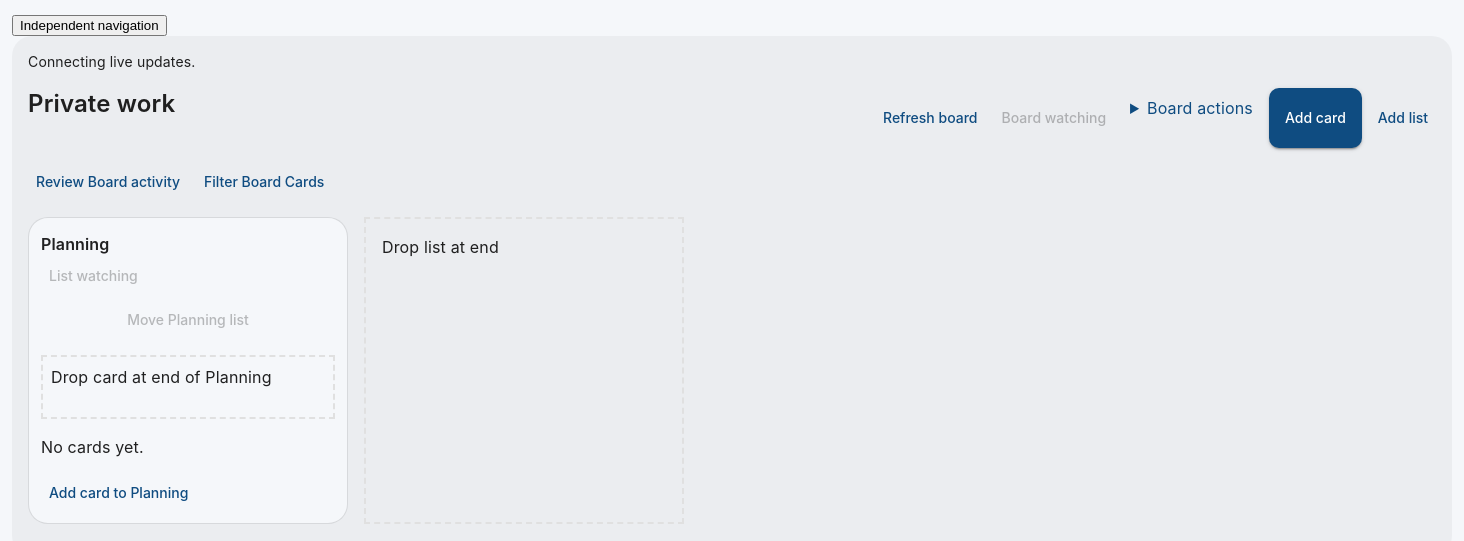
Test: PRD-08-VS-04 Card creation identity › preserves deliberate independent navigation focus when a pending Card admission is refused
What coordinates should you click on to do the following:
click the button "Add card to Planning"
I would click on:
 (119, 493)
Its box is 41,474 -> 196,511.
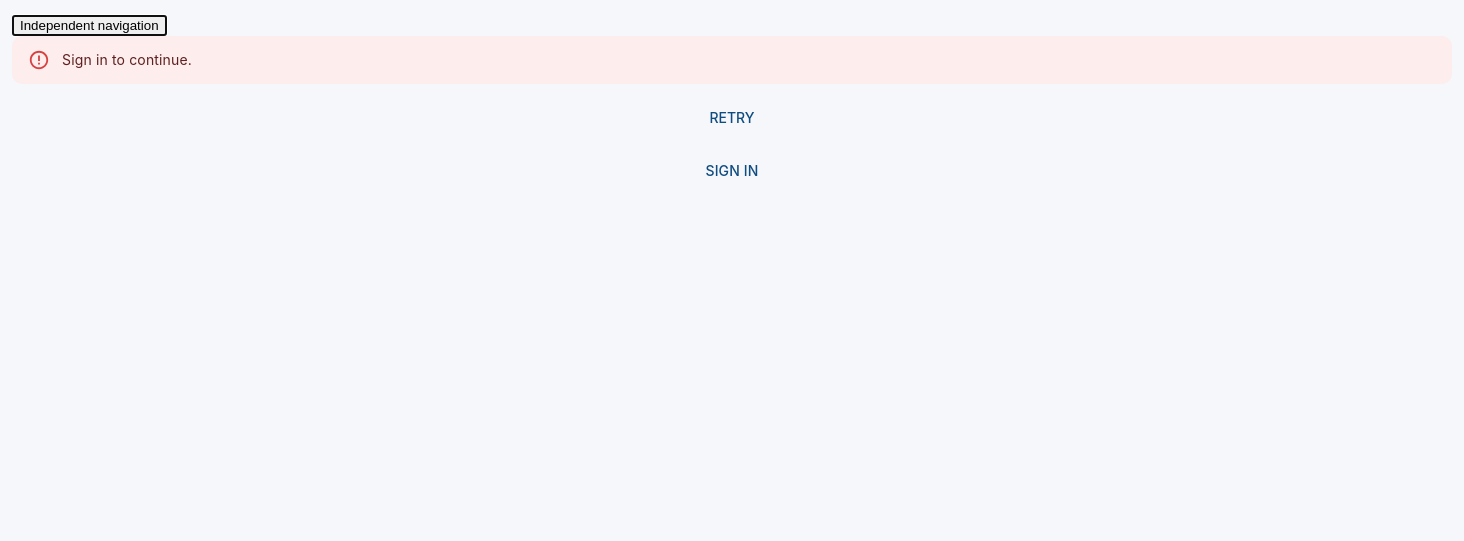
Result: the heading "Private work" is gone
Result: the message shows "Sign in to continue" at 62,51 -> 192,68
